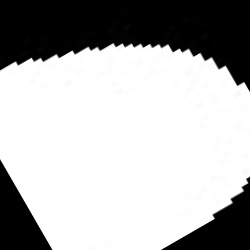spot: (2, 43, 247, 248)
